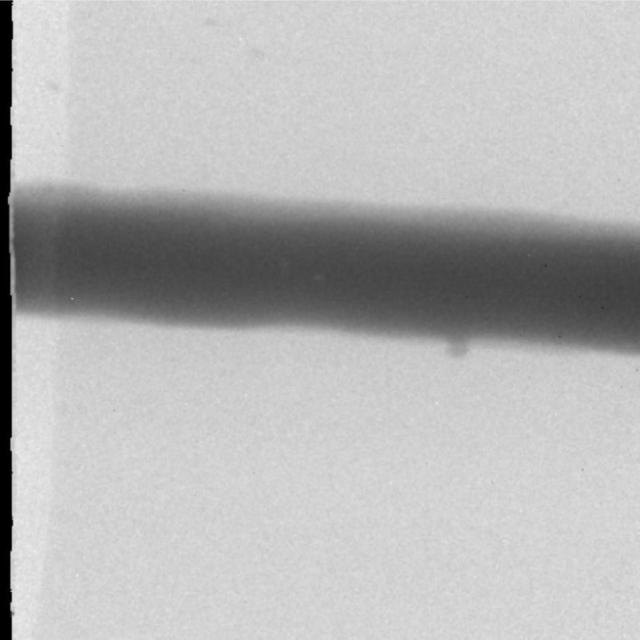overlap: (444, 326, 470, 361)
